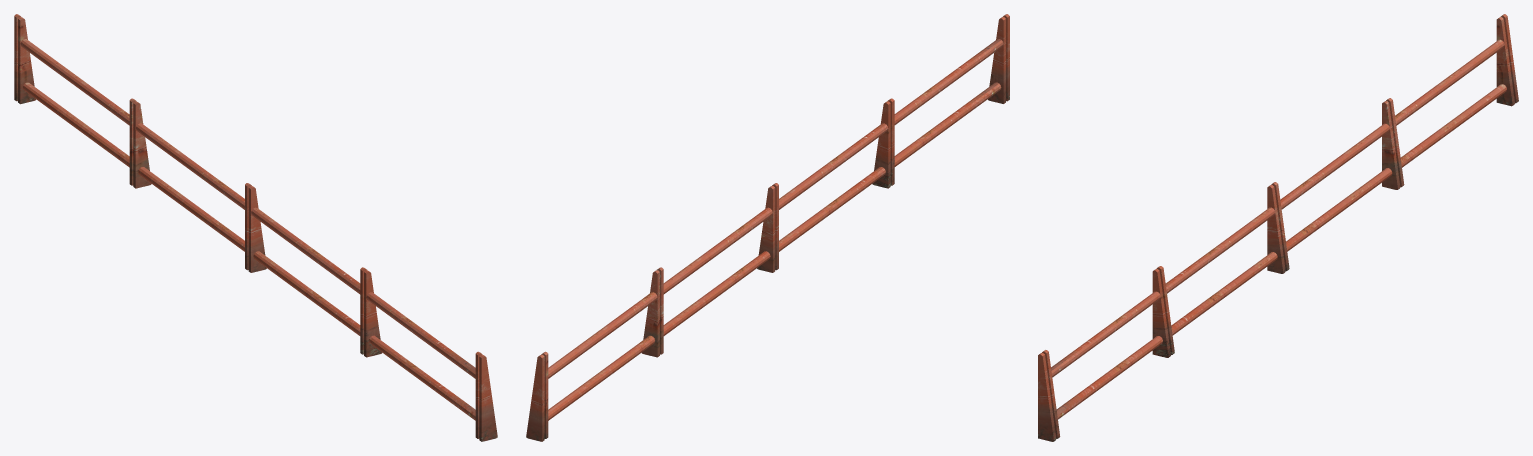
The model's file is bridge1_railing_regular.fbx.
3 renders of one model, left to right at view 1: azimuth 30°, elevation 25°; view 2: azimuth 150°, elevation 25°; view 3: azimuth 330°, elevation 25°, orthographic.
Visible parts, largest first — view 1: railing; view 2: railing; view 3: railing.
Part boxes in pixels (x1,y1,x2,y2): railing: (14,14,497,441); railing: (526,14,1009,441); railing: (1038,14,1518,441).
Bounding box in the file's own units: 0.1979 × 1 × 9.97.
